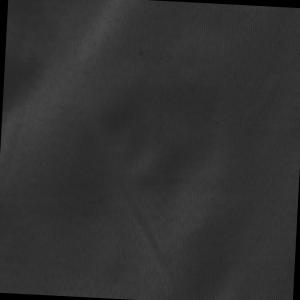Wrinkle: (1, 1, 129, 160), (95, 170, 204, 300)
